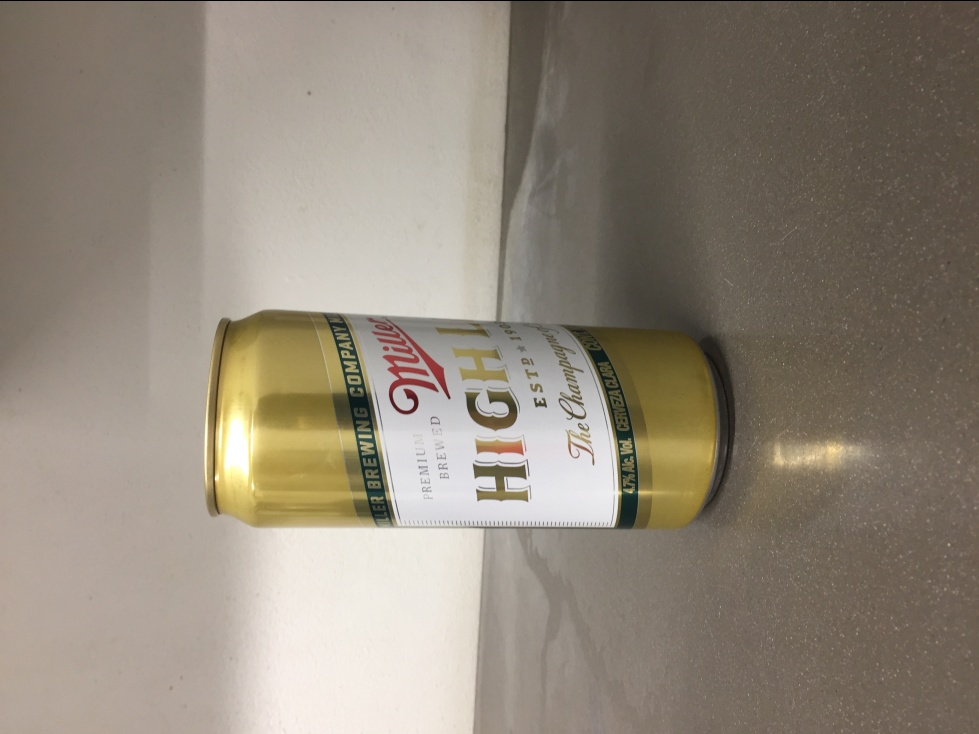miller: (202, 305, 732, 535)
